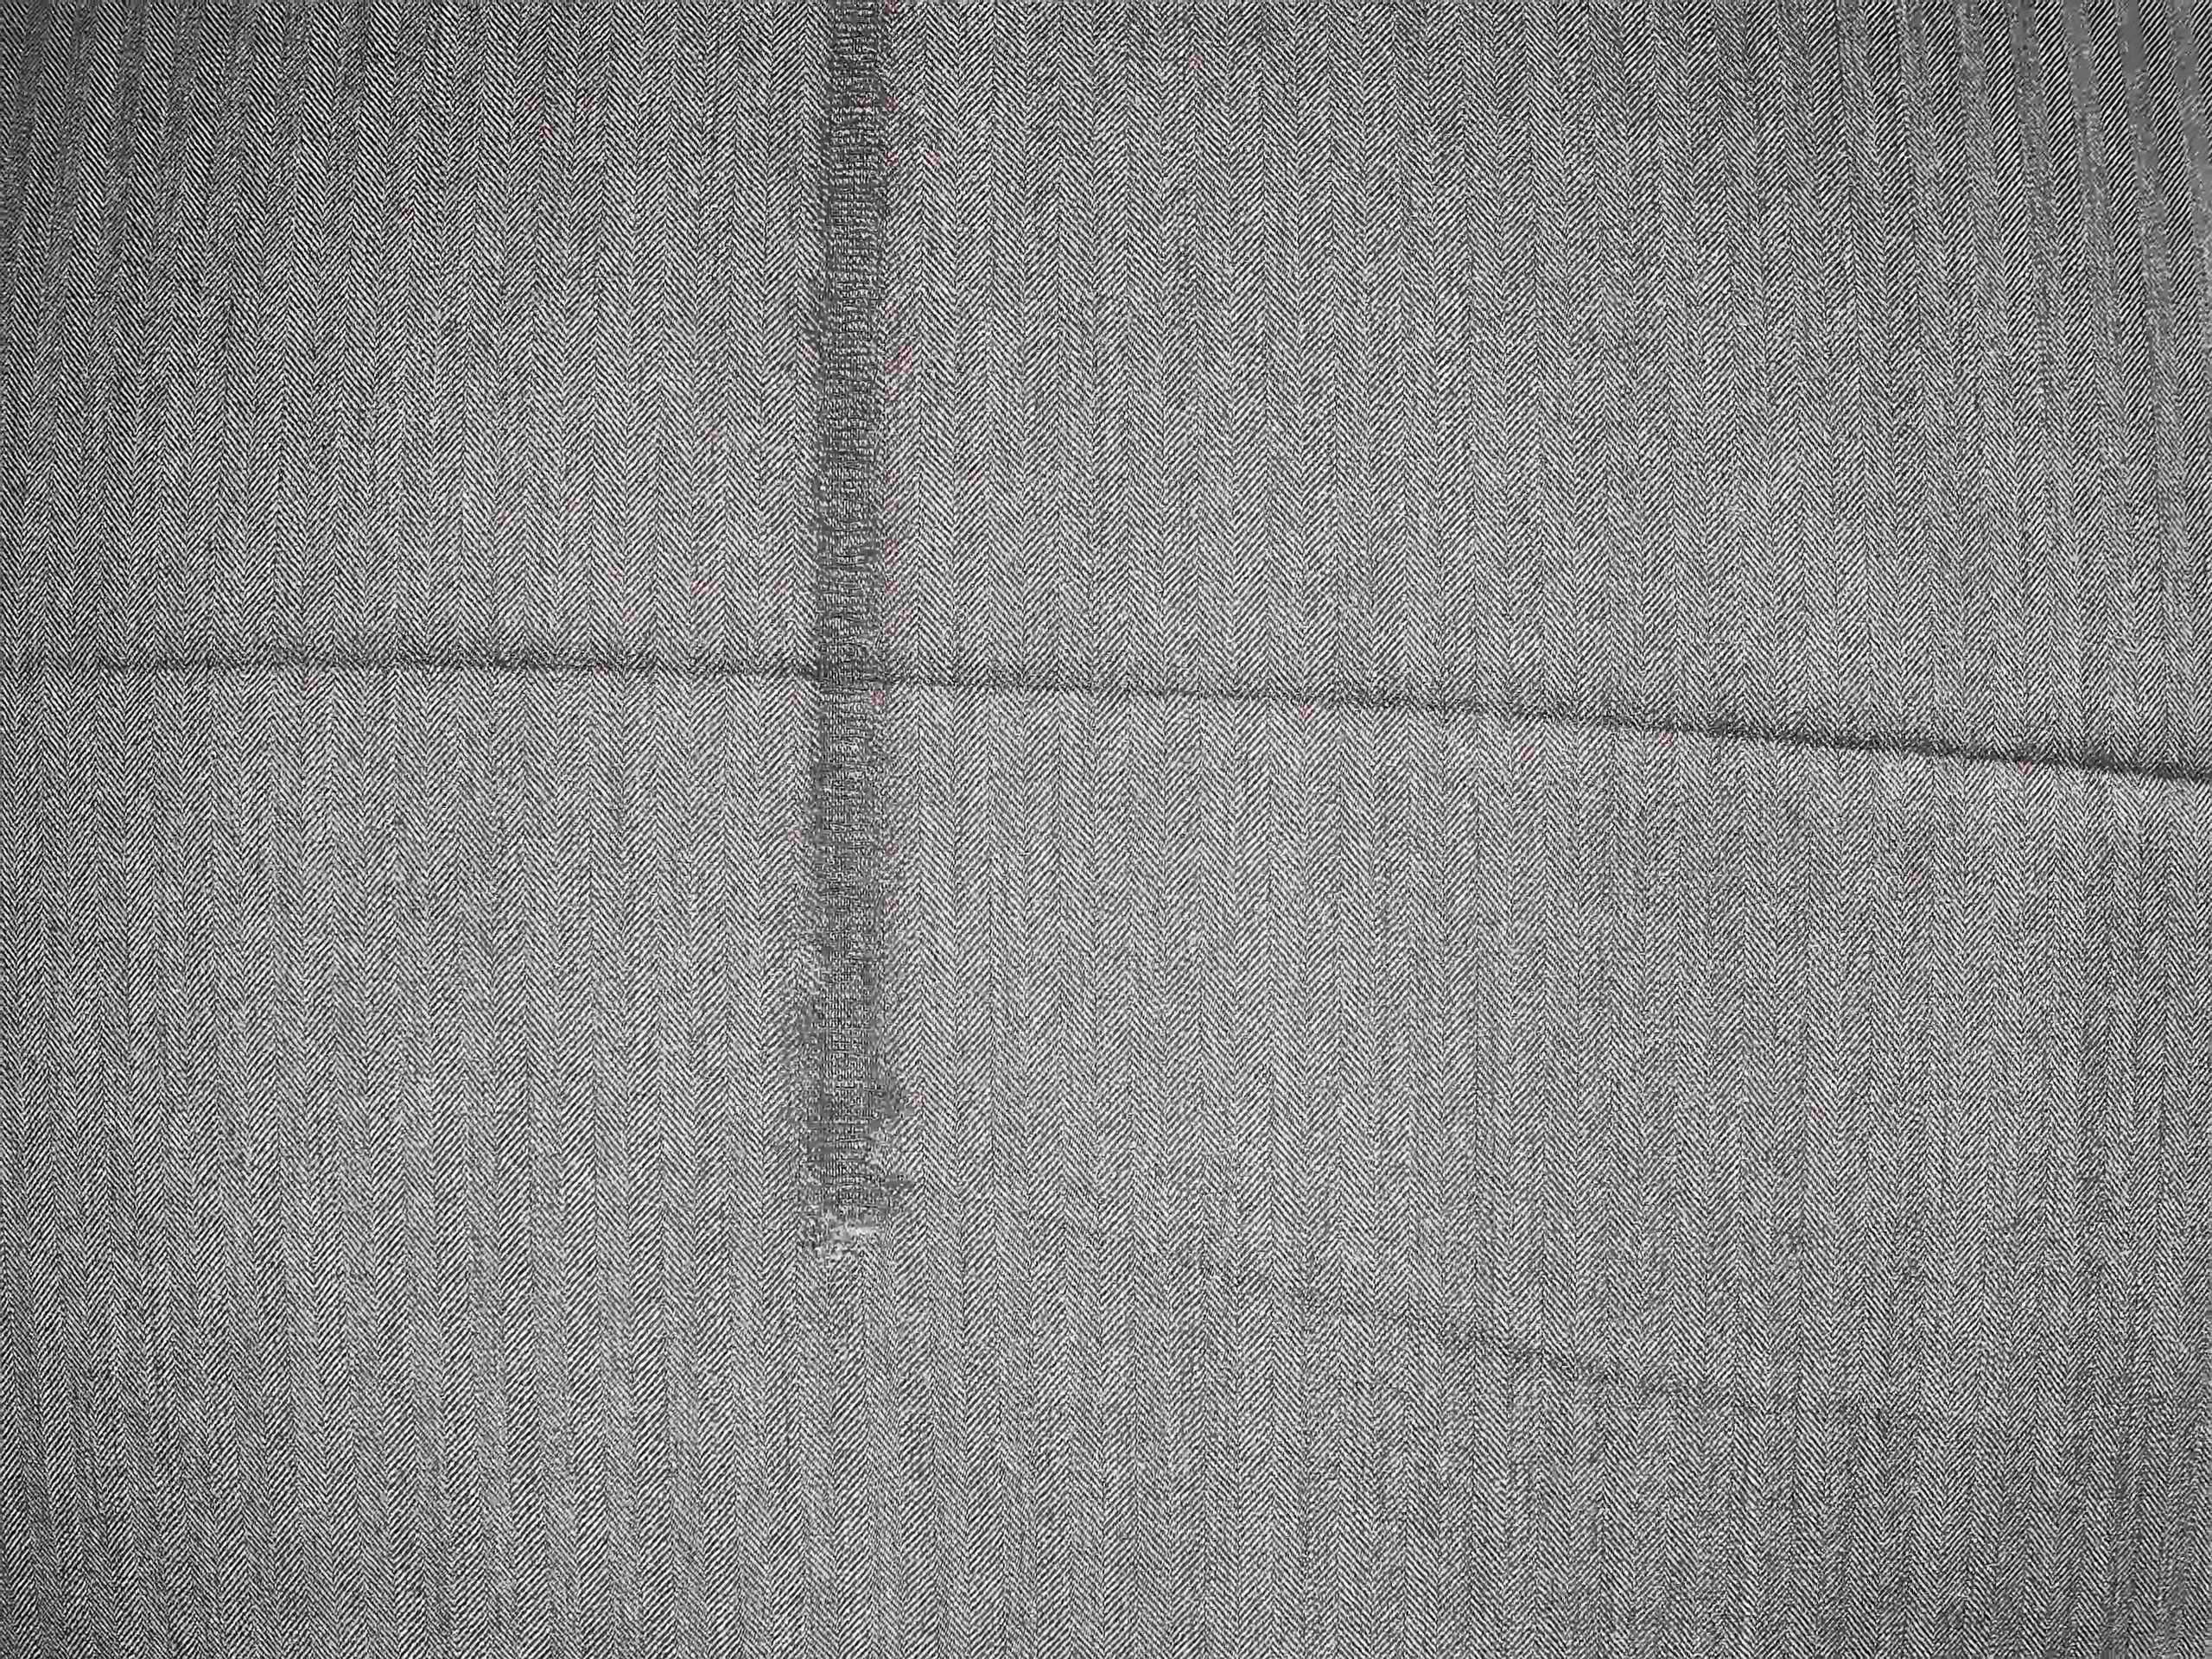others: (766, 2, 949, 1319)
